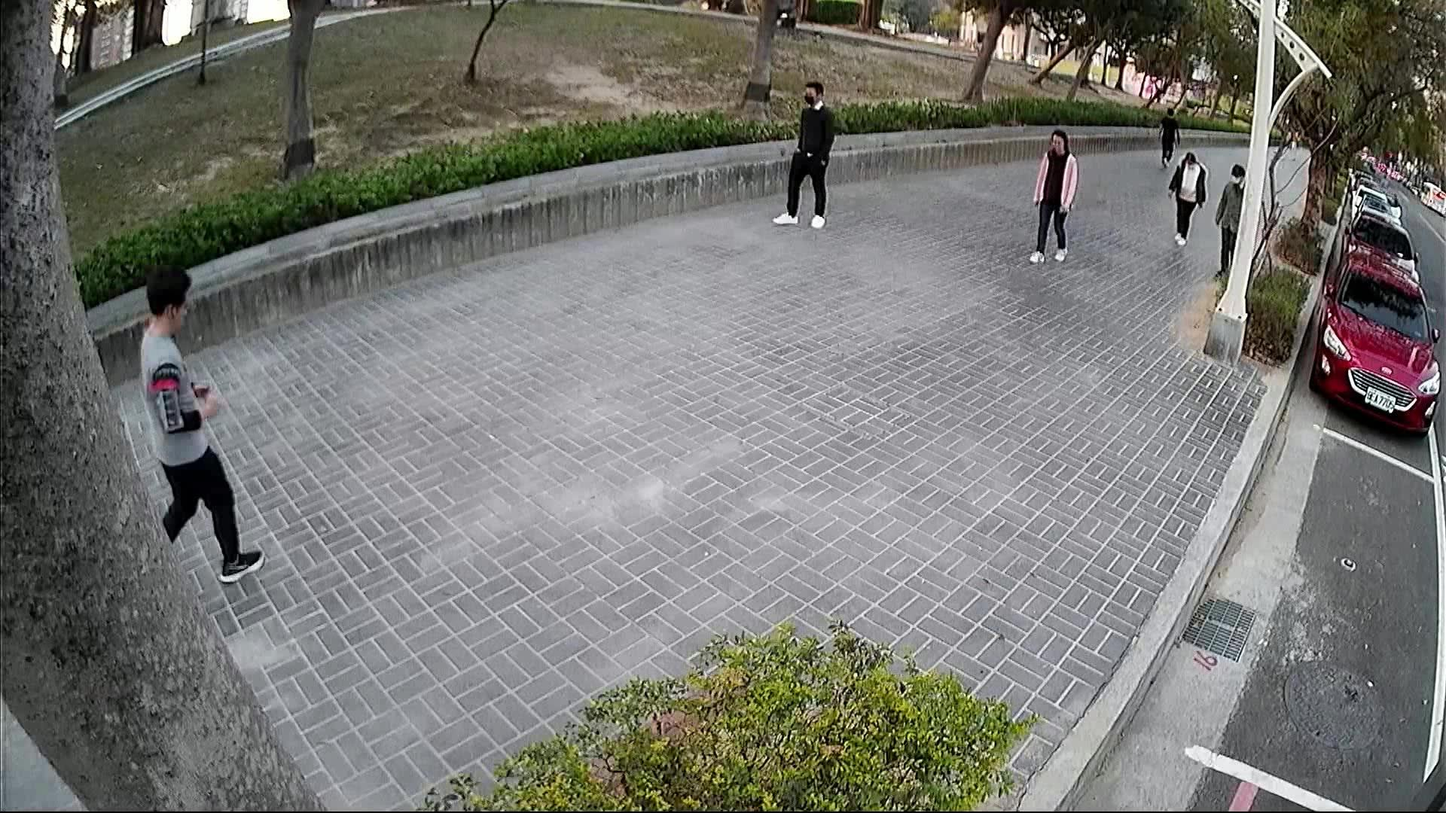person: (131, 255, 271, 587), (767, 78, 837, 231), (1024, 124, 1078, 264), (1163, 148, 1210, 247), (1210, 159, 1246, 282), (1153, 100, 1184, 169)
